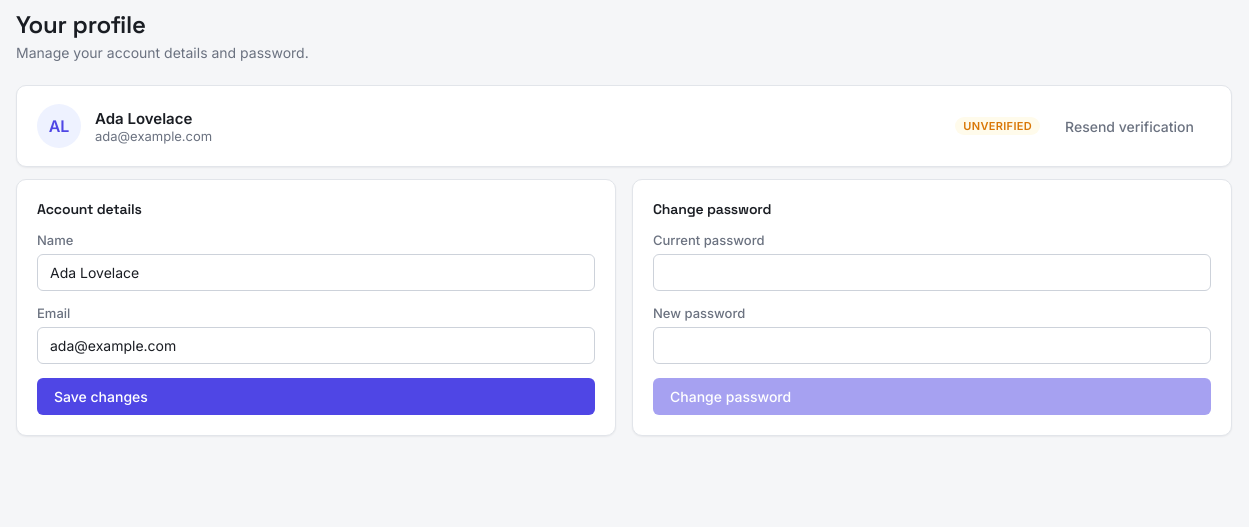
Test: ProfilePage › only reveals the current-password field once the email is changed
The image size is (1249, 527).
Expected: the text "Unverified" is shown, left=955, top=117, right=1040, bottom=135
Expected: the field labelled "current password (required" is not shown
Replace the text in the field labelled "Email" with "new@example.com" at (316, 346), box left=37, top=327, right=595, bottom=364
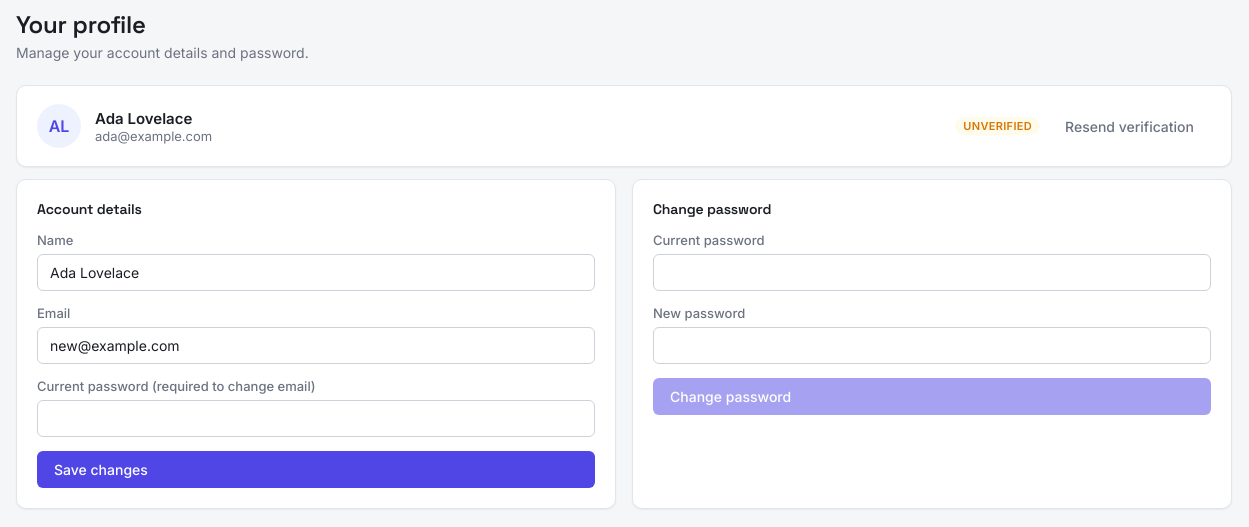
Expected: the password field labelled "Current password (required to change email)" is shown, left=37, top=400, right=595, bottom=437
